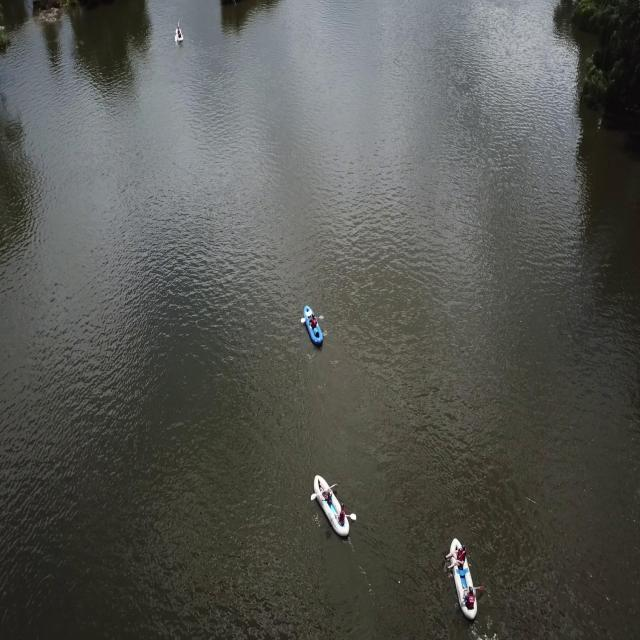kayak: (442, 531, 485, 624), (310, 470, 357, 542), (298, 298, 326, 349), (173, 18, 183, 46)
